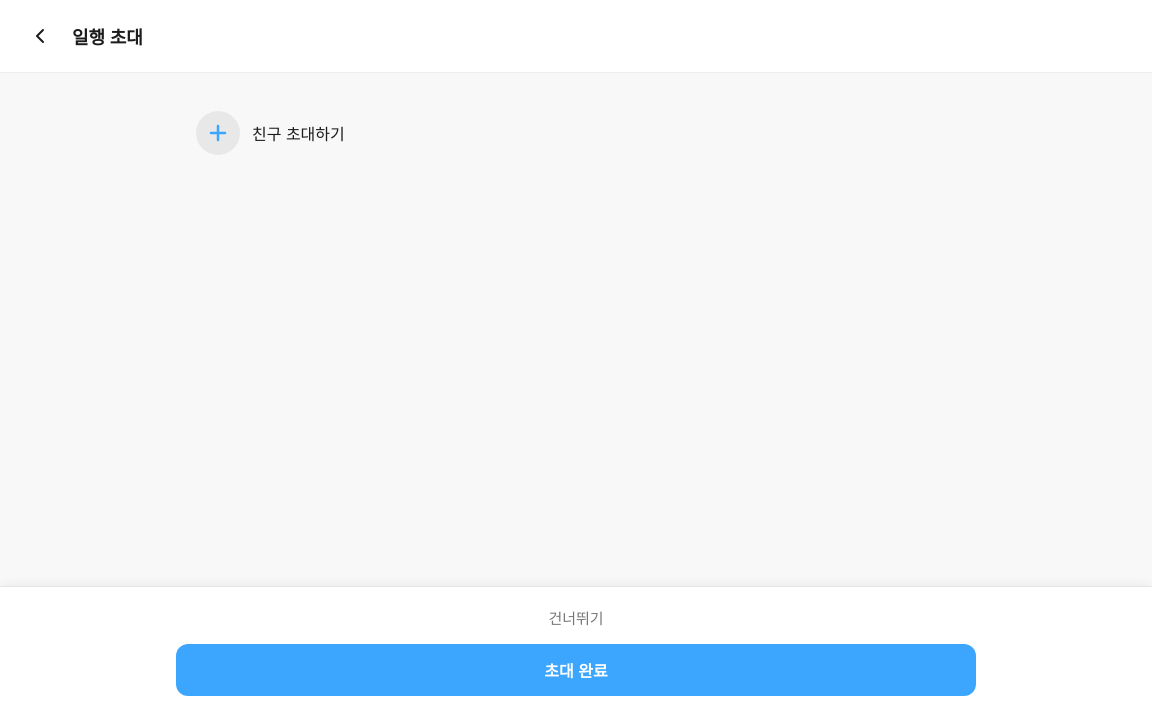
Test: InviteCompanionsPage › 닉네임 입력 후 확인 버튼 클릭 시 검색 결과가 표시된다
Click the button "친구 초대하기" at (218, 133), box [196,97,956,169]
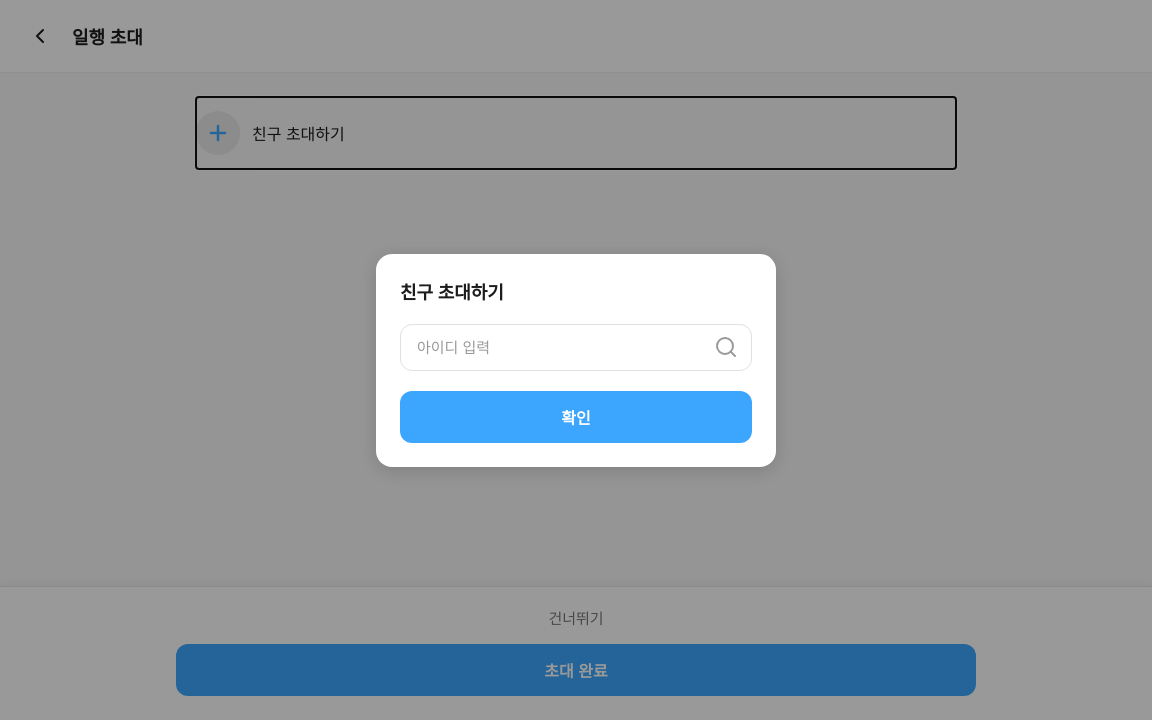
Type "테스트친구" into the field with placeholder "아이디 입력" at (576, 347), box [400,324,752,370]
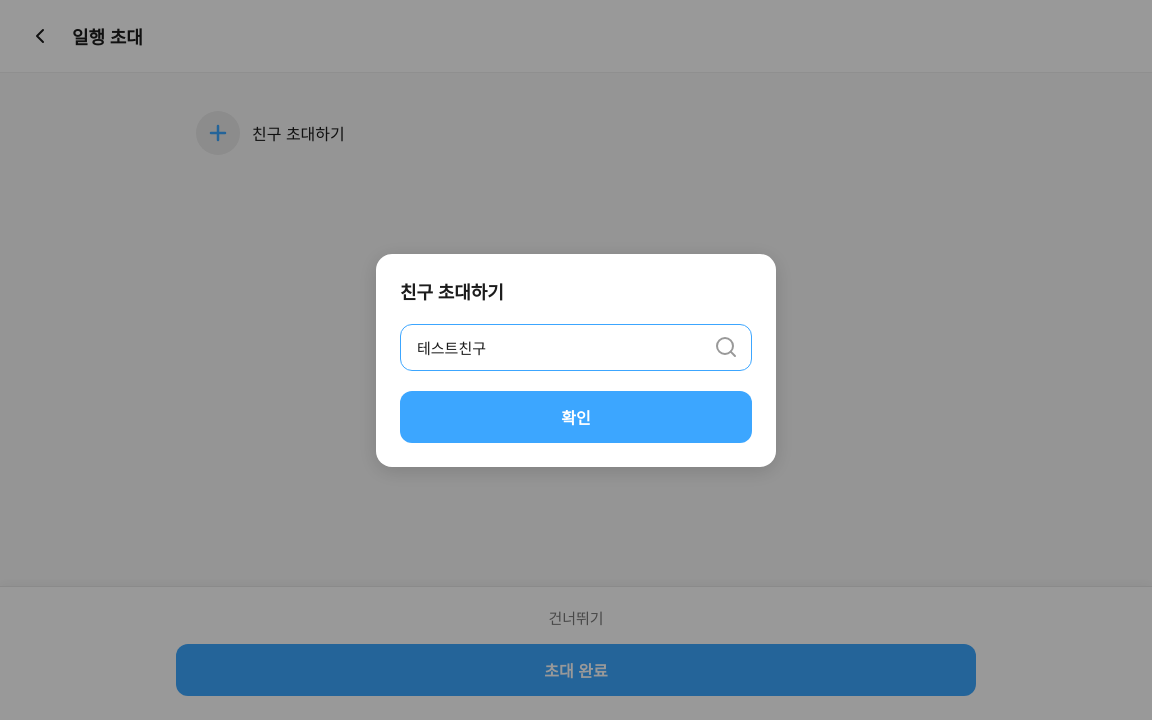
Click the button "확인" at (576, 416), box [400,390,752,442]
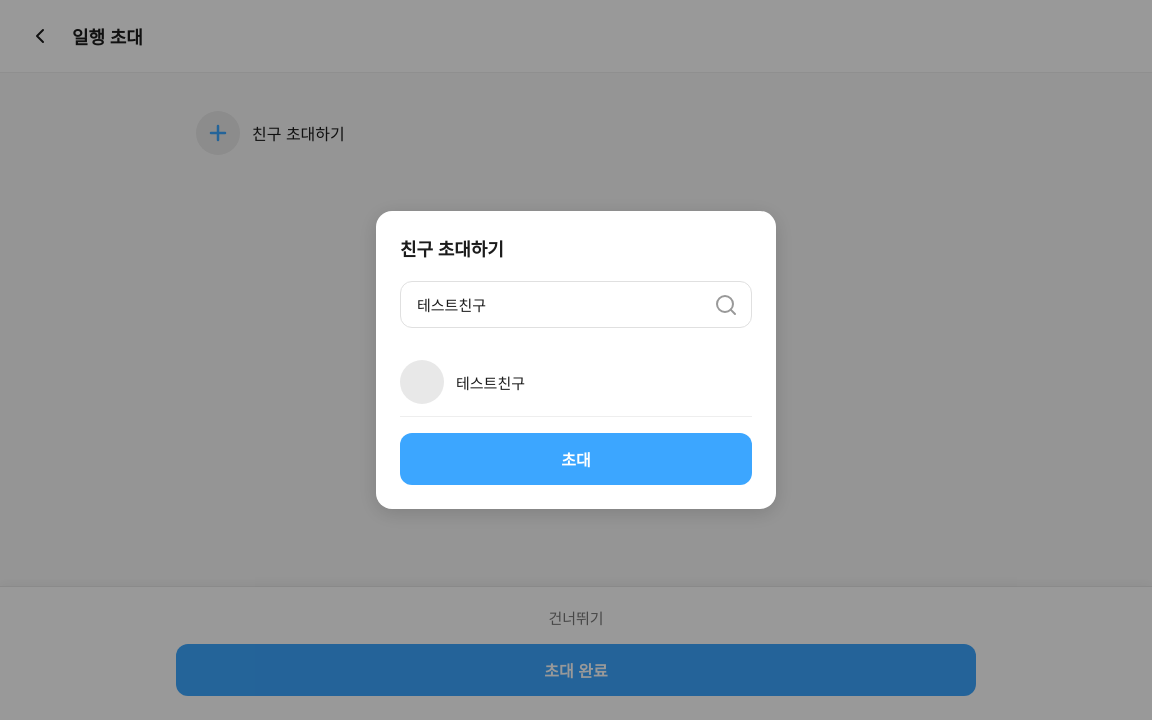
Result: the text "테스트친구" is shown at [456,372,525,392]
Result: the button "초대" is shown at [400,433,752,485]
